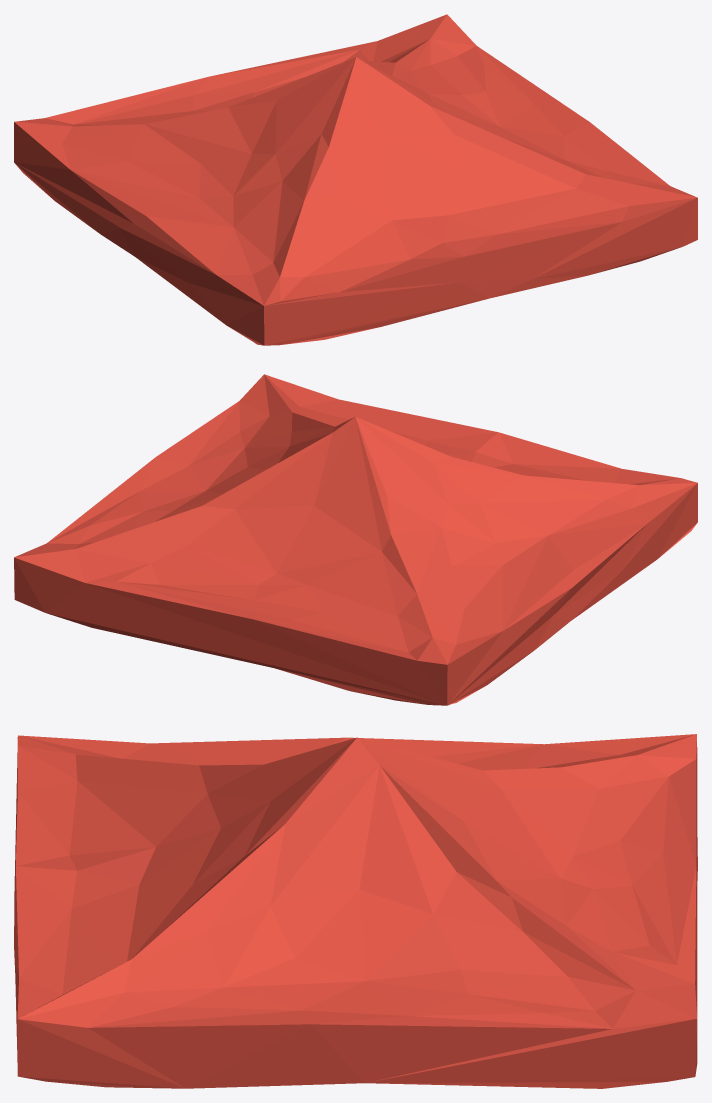
File: SM_Tent_Cover_Black_Movie.fbx
3 renders of one model, top to bottom at view 1: azimuth 30°, elevation 25°; view 2: azimuth 150°, elevation 25°; view 3: azimuth 270°, elevation 25°, orthographic. The views are drawn at different scales.
Parts seen in each view (by area): view 1: SM_Tent_Cover_Black_Movie; view 2: SM_Tent_Cover_Black_Movie; view 3: SM_Tent_Cover_Black_Movie.
Boxes of the visible parts, box(x1,y1,x2,y2) form: SM_Tent_Cover_Black_Movie: box(14, 14, 697, 345); SM_Tent_Cover_Black_Movie: box(14, 374, 697, 705); SM_Tent_Cover_Black_Movie: box(14, 734, 697, 1088).
Size of the model in its own units: 302 by 303 by 102.
